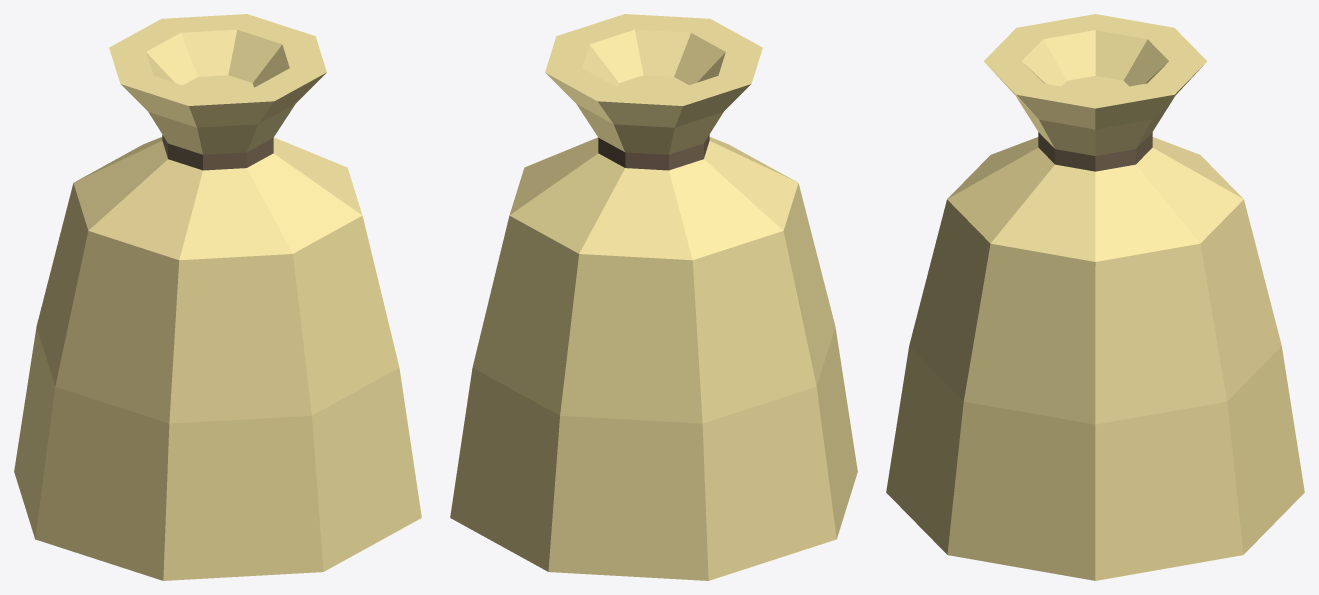
File: Hay.fbx
3 views of the same model, side by side, from view 1: azimuth 30°, elevation 25°; view 2: azimuth 150°, elevation 25°; view 3: azimuth 270°, elevation 25° (orthographic).
Parts seen in each view (by area): view 1: Hay; view 2: Hay; view 3: Hay.
Part boxes in pixels (x1,y1,x2,y2): Hay: (14, 14, 421, 580); Hay: (450, 14, 857, 580); Hay: (886, 14, 1304, 580).
Bounding box in the file's own units: 282 × 320 × 282.
